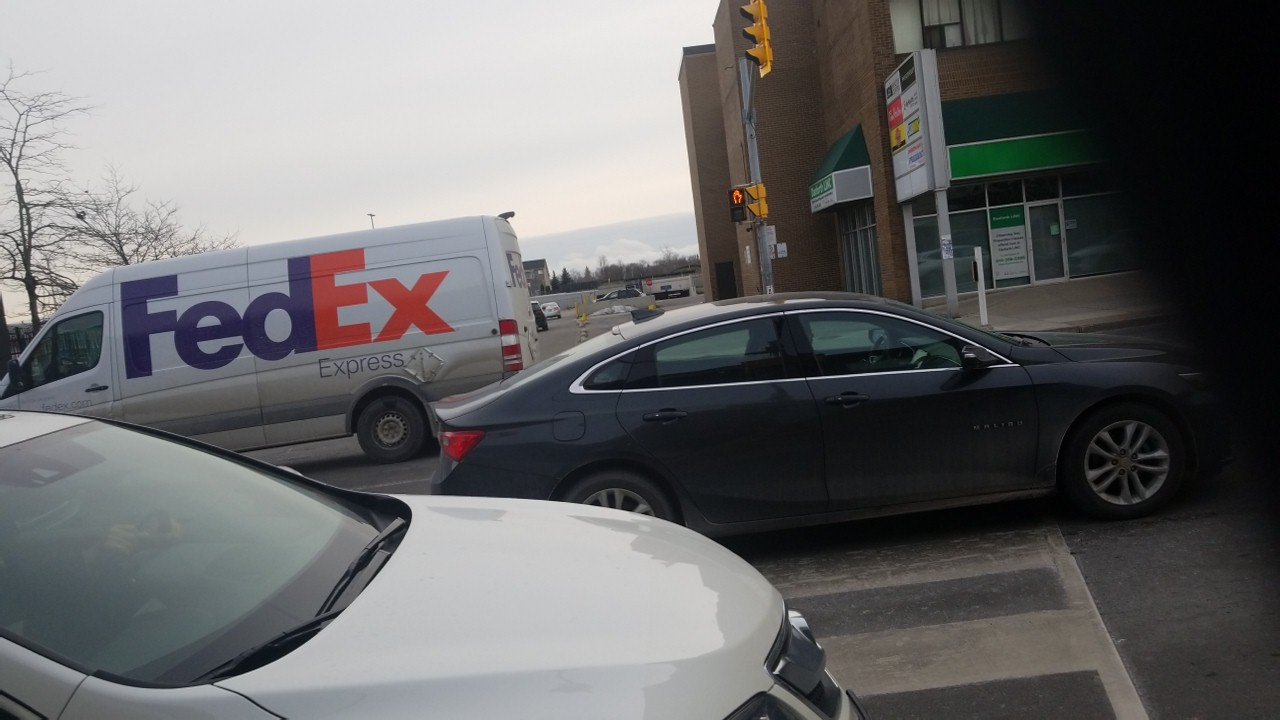light: (727, 186, 745, 221)
